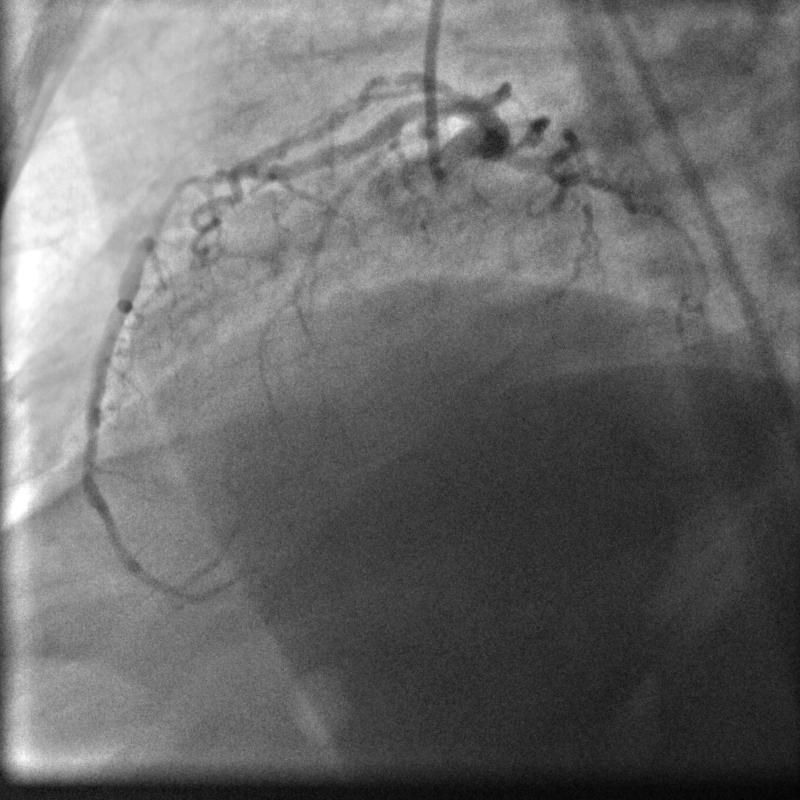Stenosis: (148, 178, 216, 230)
